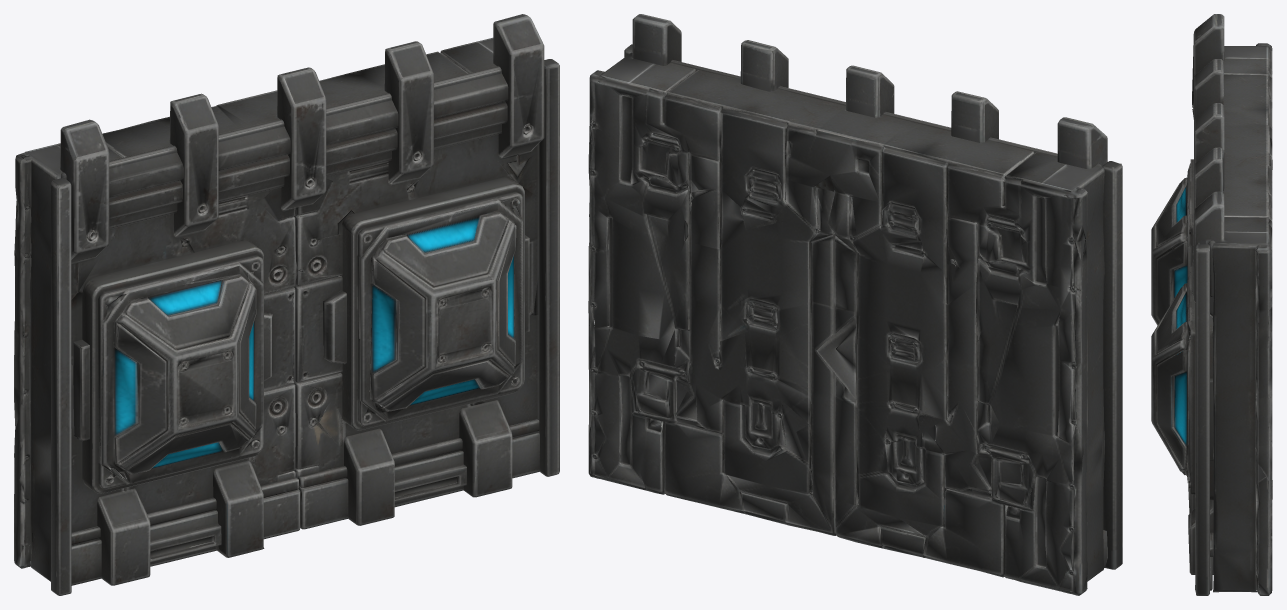
Rendered from Meshy_AI_Futuristic_Industrial_1019190135_texture.fbx.
3 renders of one model, left to right at view 1: azimuth 30°, elevation 25°; view 2: azimuth 150°, elevation 25°; view 3: azimuth 270°, elevation 25°, orthographic. The views are drawn at different scales.
Visible parts, largest first — view 1: Mesh_0; view 2: Mesh_0; view 3: Mesh_0.
Part boxes in pixels (bbox=[...]): Mesh_0: bbox=[14, 14, 559, 595]; Mesh_0: bbox=[588, 14, 1122, 595]; Mesh_0: bbox=[1151, 14, 1272, 595].
Bounding box in the file's own units: 95.07 × 82.13 × 23.41.
Materials: 1 (1 with a texture image).
